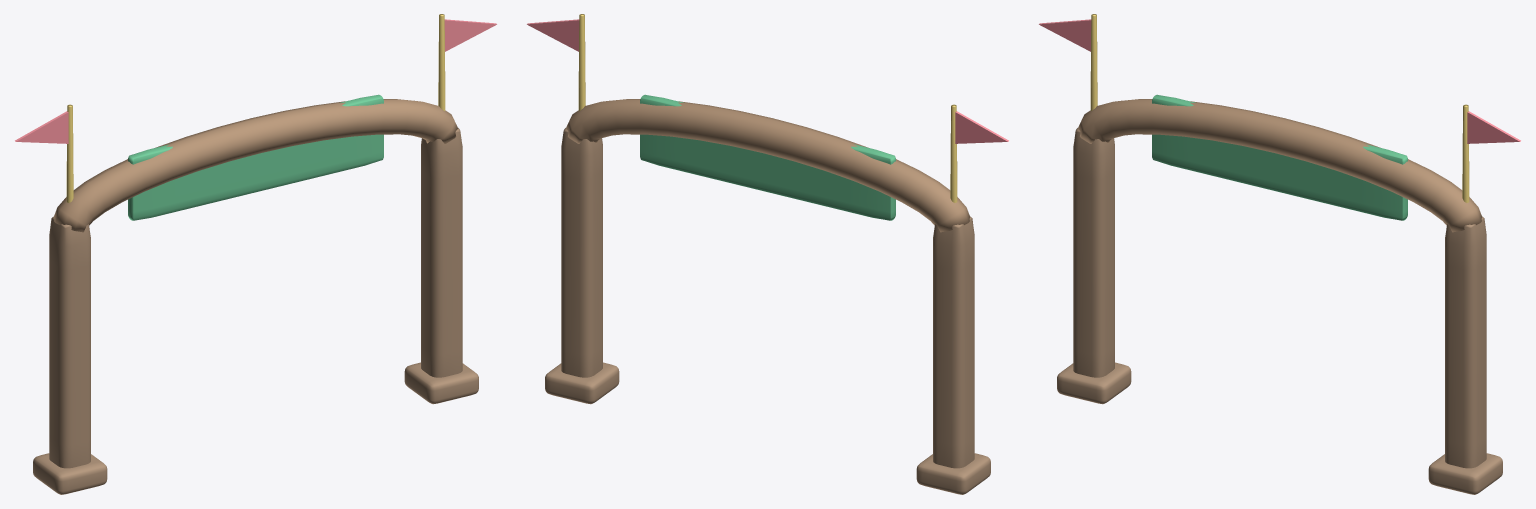
File: DiceDashArchStart.glb
3 views of the same model, side by side, from view 1: azimuth 30°, elevation 25°; view 2: azimuth 150°, elevation 25°; view 3: azimuth 330°, elevation 25° (orthographic).
Parts seen in each view (by area): view 1: Posts, Beam, Banner, Flags, Poles; view 2: Posts, Beam, Banner, Flags, Poles; view 3: Posts, Beam, Banner, Flags, Poles.
Part boxes in pixels (x1,y1,x2,y2): Posts: (33,128,478,494); Beam: (53,99,458,232); Banner: (128,94,383,220); Flags: (15,19,496,143); Poles: (66,14,445,202); Posts: (545,128,990,494); Beam: (566,99,970,232); Banner: (640,94,895,220); Flags: (527,19,1008,143); Poles: (578,14,957,202); Posts: (1057,128,1502,494); Beam: (1078,99,1482,232); Banner: (1152,94,1407,220); Flags: (1039,19,1520,143); Poles: (1090,14,1469,202).
Bounding box in the file's own units: 22.8 × 17 × 2.4.
